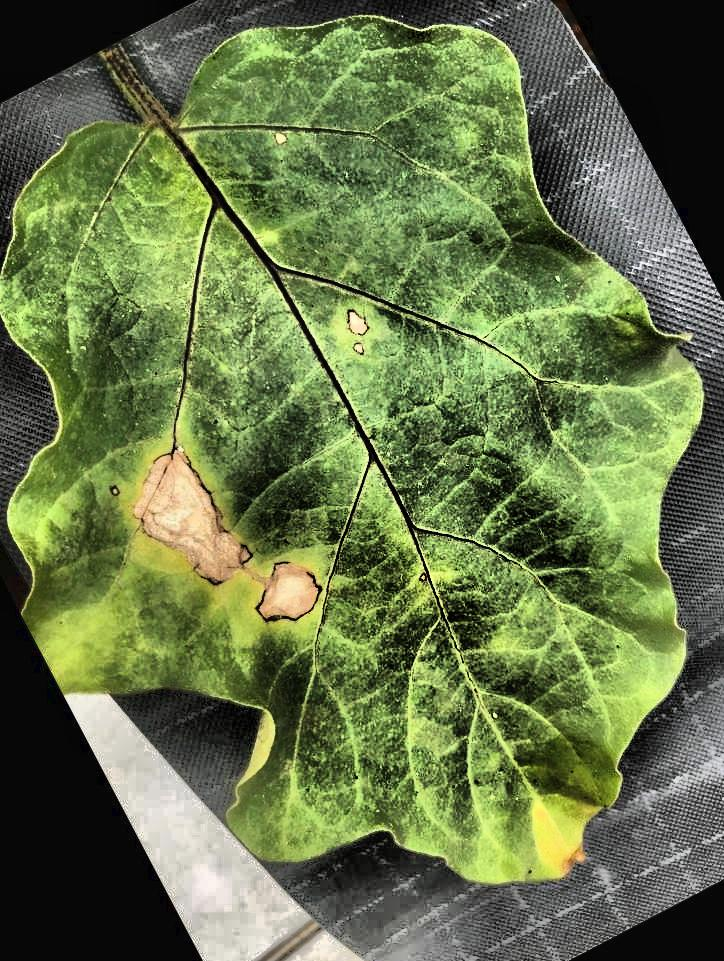Critical Stress: (0, 1, 724, 961)
